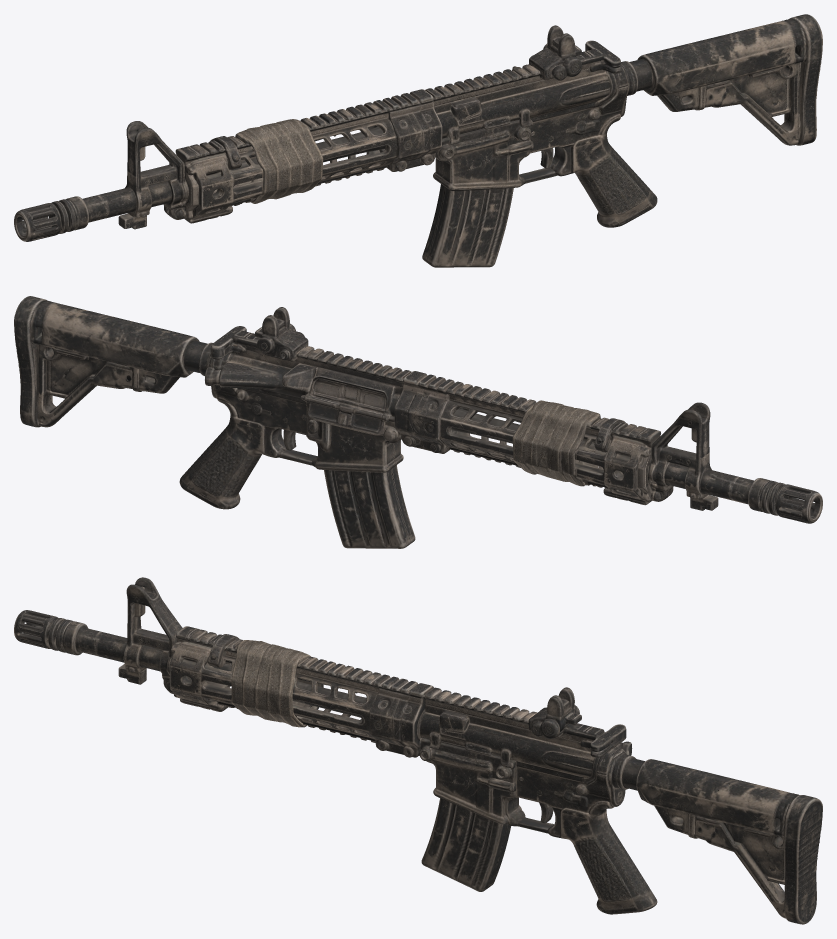
3 views of the same model, one above another, from view 1: azimuth 30°, elevation 25°; view 2: azimuth 150°, elevation 25°; view 3: azimuth 330°, elevation 25° (orthographic).
Size of the model in its own units: 1.91 by 0.5111 by 0.1739.
Materials: 1 (1 with a texture image).
